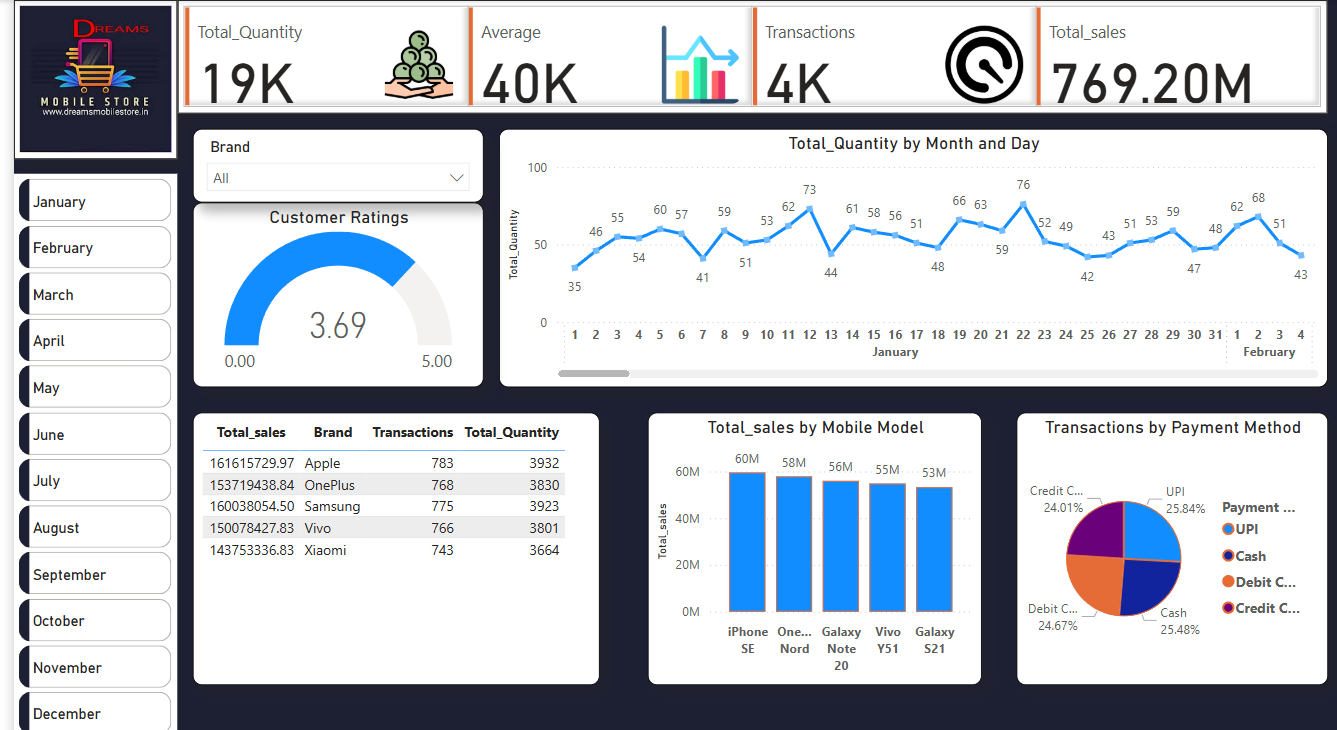

What the dashboard file says about the page in this screenshot:
{"tool":"powerbi","page":{"name":"Dasboard","canvas":[1280,720],"ordinal":0},"visuals":[{"type":"image","box":[0,0,157.8,153.7],"z":0},{"type":"advancedSlicerVisual","fields":{"Values":["Sheet1.Date.Variation.Date Hierarchy.Month"]},"box":[0,167.4,157.8,553],"z":1000},{"type":"cardVisual","fields":{"Data":["Data .Total_Quantity","Data .Average","Data .Transactions","Data .Total_sales"]},"box":[158,0,1109.9,109.8],"z":1001},{"type":"lineChart","fields":{"Category":["Data .Date.Variation.Date Hierarchy.Month","Data .Date.Variation.Date Hierarchy.Day"],"Y":["Data .Total_Quantity"]},"box":[468.1,124.3,799.9,249.7],"z":1002},{"type":"clusteredColumnChart","fields":{"Category":["Data .Mobile Model"],"Y":["Data .Total_sales"]},"box":[612,397.9,322.5,263.5],"z":1003},{"type":"pieChart","fields":{"Category":["Data .Payment Method"],"Y":["Data .Transactions"]},"box":[967.4,397.9,300.5,263.5],"z":1004},{"type":"gauge","title":" Customer Ratings","fields":{"Y":["Avg(Data .Customer Ratings)"]},"box":[172.5,195.4,281.1,178.6],"z":1005},{"type":"slicer","fields":{"Values":["Data .Brand"]},"box":[172.5,124.3,281.1,71.2],"z":1006},{"type":"tableEx","fields":{"Values":["Data .Total_sales","Data .Brand","Data .Transactions","Data .Total_Quantity"]},"box":[172.9,397.9,392.5,263.5],"z":1007}]}

Visuals, with their boxes in screenshot pixels (x1, y1, x2, y2):
image: pyautogui.locateOnScreen(10, 0, 174, 156)
advancedSlicerVisual - Sheet1.Date.Variation.Date Hierarchy.Month: pyautogui.locateOnScreen(10, 170, 174, 729)
cardVisual - Data .Total_Quantity x Data .Average: pyautogui.locateOnScreen(174, 0, 1327, 111)
lineChart - Data .Date.Variation.Date Hierarchy.Month x Data .Date.Variation.Date Hierarchy.Day: pyautogui.locateOnScreen(496, 126, 1327, 385)
clusteredColumnChart - Data .Mobile Model x Data .Total_sales: pyautogui.locateOnScreen(646, 410, 981, 683)
pieChart - Data .Payment Method x Data .Transactions: pyautogui.locateOnScreen(1015, 410, 1327, 683)
" Customer Ratings" gauge: pyautogui.locateOnScreen(190, 199, 481, 385)
slicer - Data .Brand: pyautogui.locateOnScreen(190, 126, 481, 200)
tableEx - Data .Total_sales x Data .Brand: pyautogui.locateOnScreen(190, 410, 597, 683)
